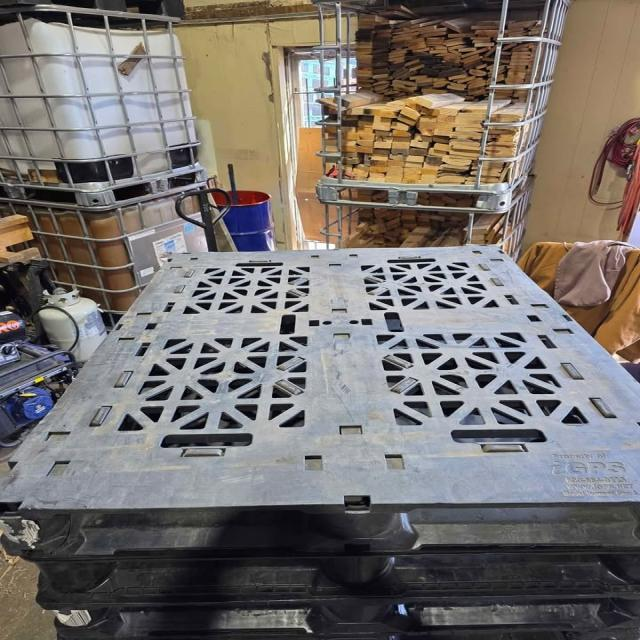igps: (0, 232, 640, 562), (26, 558, 640, 598), (38, 601, 640, 639)
